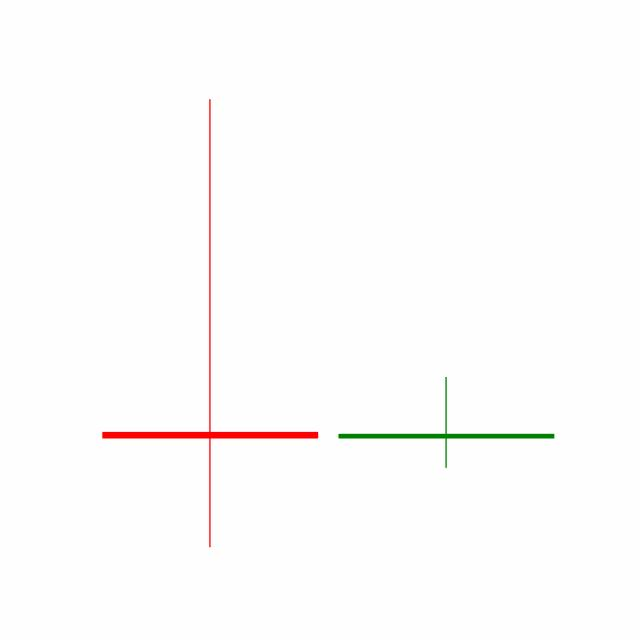Gravestone Doji: (327, 375, 565, 469)
